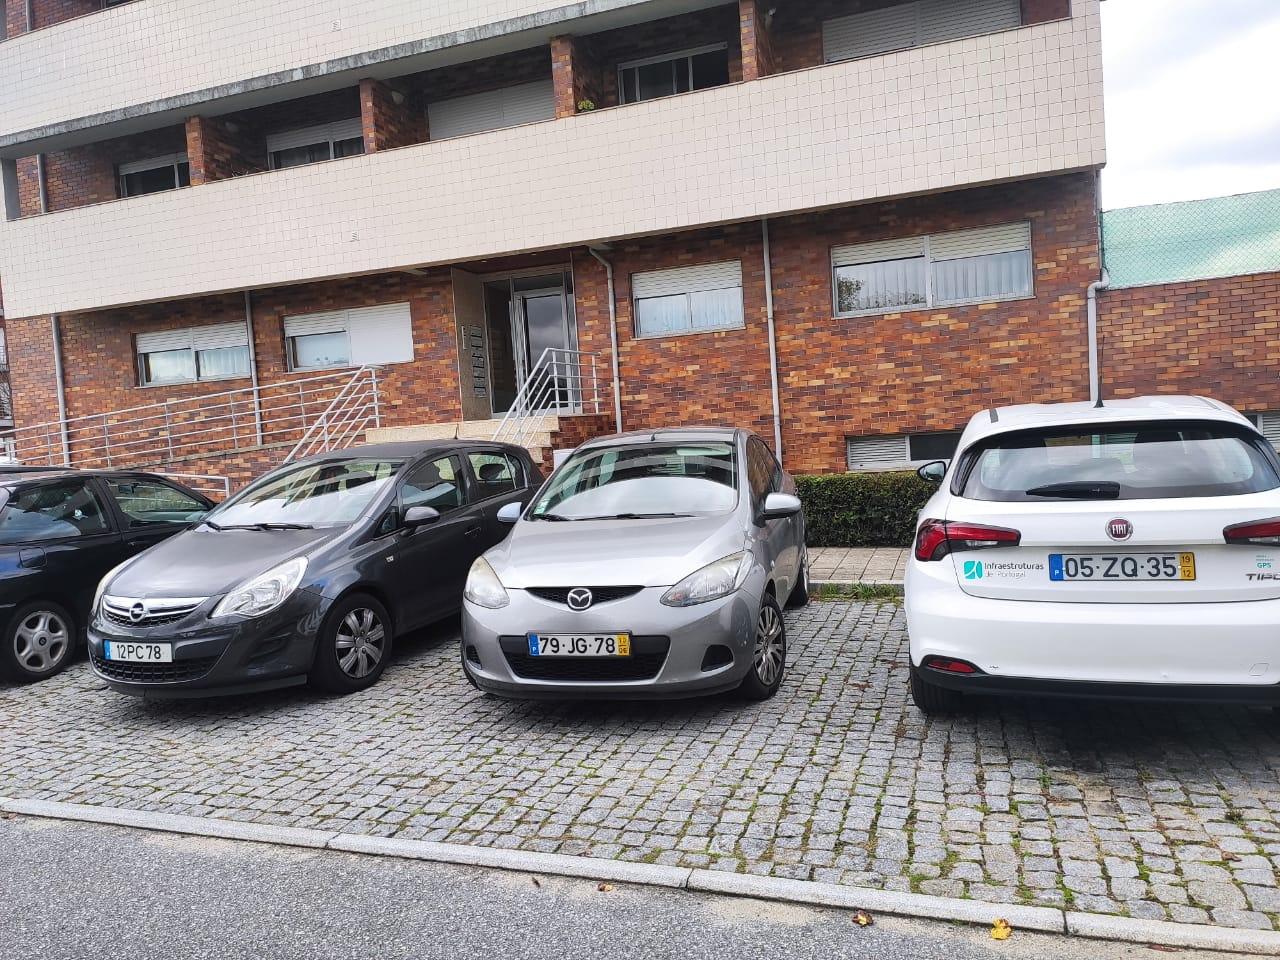carplate: (1044, 542, 1197, 587), (520, 628, 639, 662), (90, 639, 179, 667)
